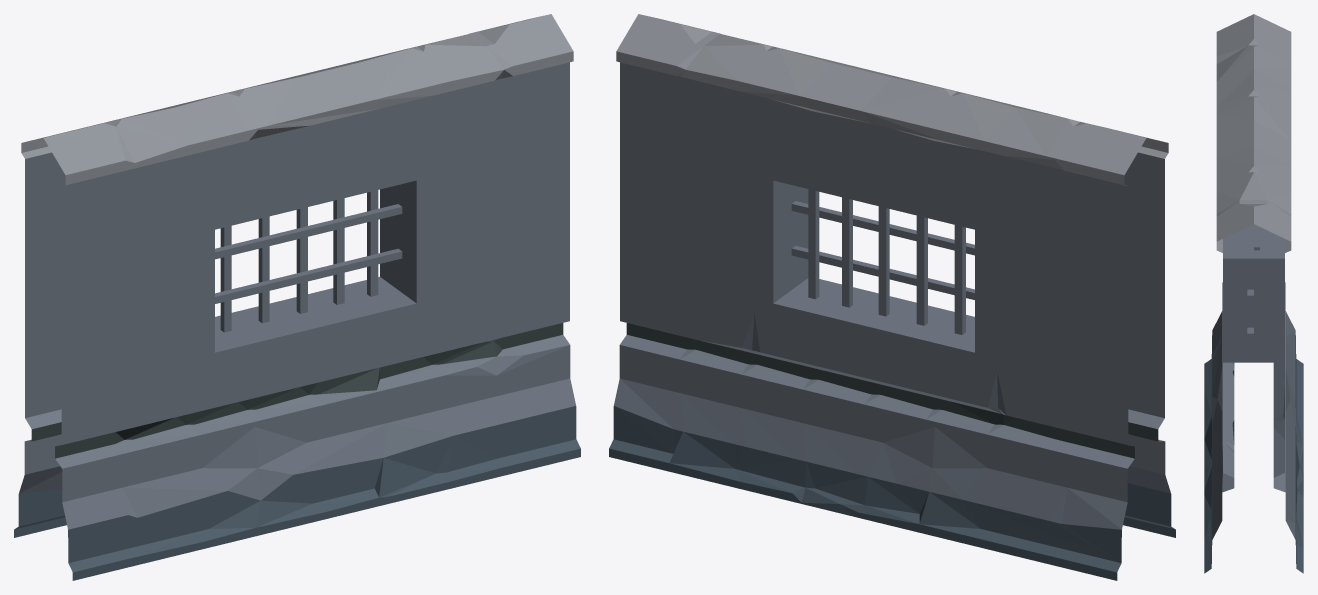
Rendered from Wall4.fbx.
3 views of the same model, side by side, from view 1: azimuth 30°, elevation 25°; view 2: azimuth 150°, elevation 25°; view 3: azimuth 270°, elevation 25° (orthographic). The views are drawn at different scales.
Visible parts, largest first — view 1: Wall4; view 2: Wall4; view 3: Wall4.
Boxes of the visible parts, x1,y1,x2,y2 form: Wall4: [14, 14, 580, 580]; Wall4: [609, 14, 1175, 580]; Wall4: [1204, 14, 1303, 573].
Size of the model in its own units: 600 by 476 by 120.
